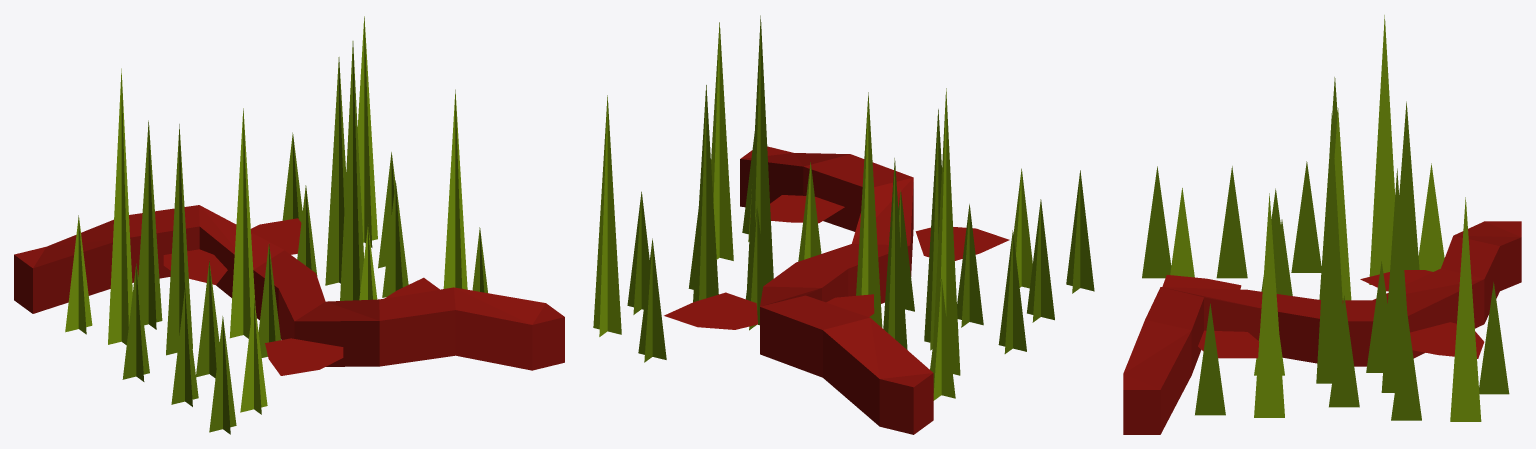
File: model_loc_1227_0.obj
3 views of the same model, side by side, from view 1: azimuth 30°, elevation 25°; view 2: azimuth 150°, elevation 25°; view 3: azimuth 270°, elevation 25° (orthographic). The views are drawn at different scales.
Visible parts, largest first — view 1: 1691; view 2: 1691; view 3: 1691.
Part boxes in pixels (x1,y1,x2,y2): 1691: [14, 16, 564, 434]; 1691: [593, 15, 1094, 434]; 1691: [1123, 15, 1521, 434].
Bounding box in the file's own units: 128 × 96 × 128.
